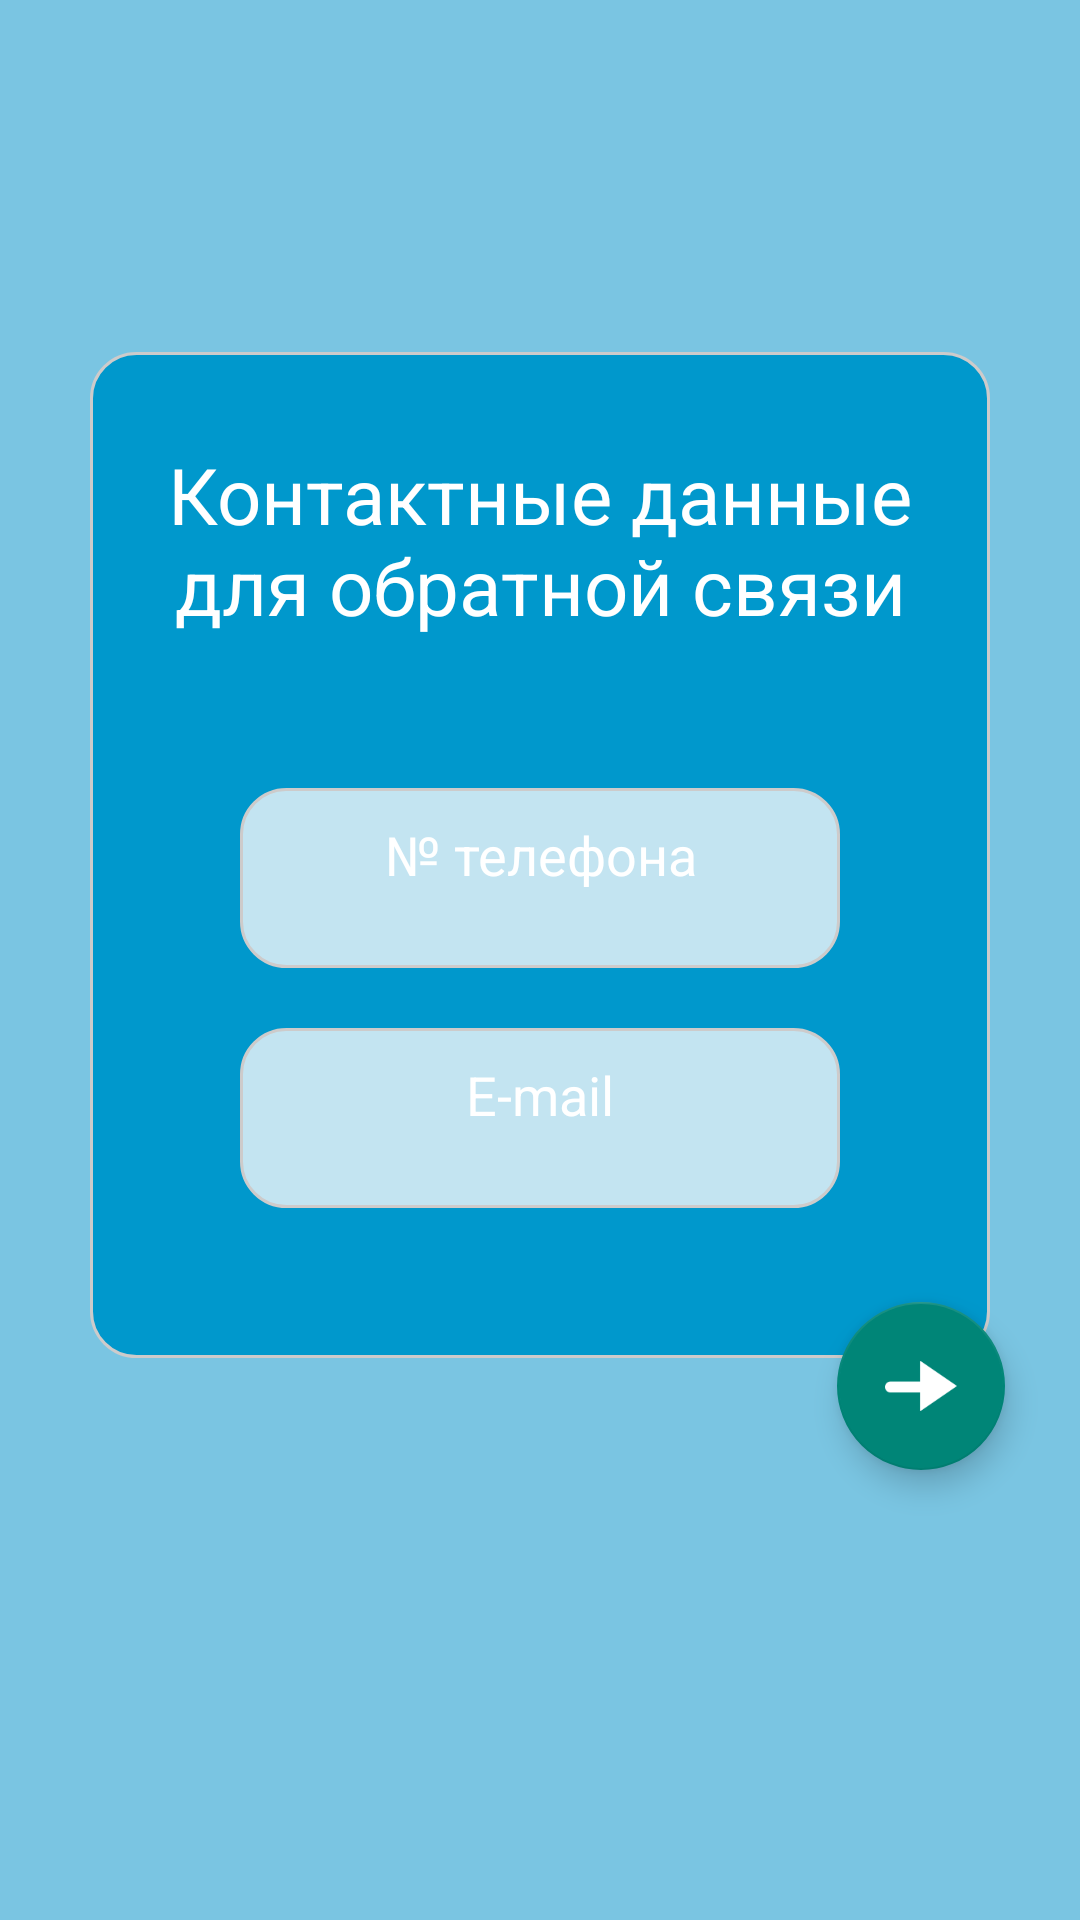

Icons on this 1080px x 1920px Android screen, each with the point to tap as (x,y):
next: (921,1386)
